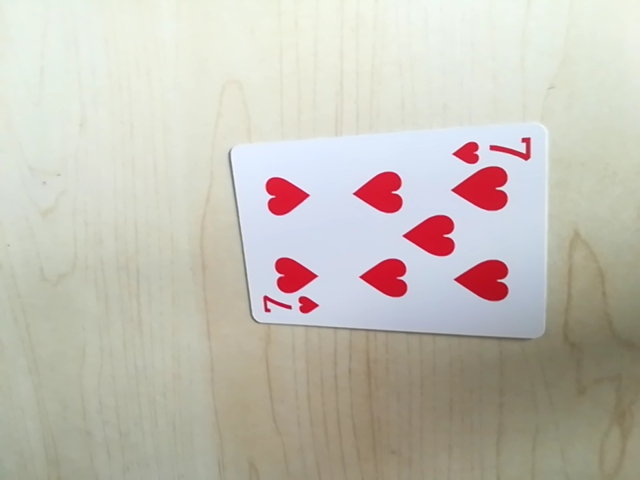hx 7: (450, 129, 537, 166), (257, 294, 322, 323)
